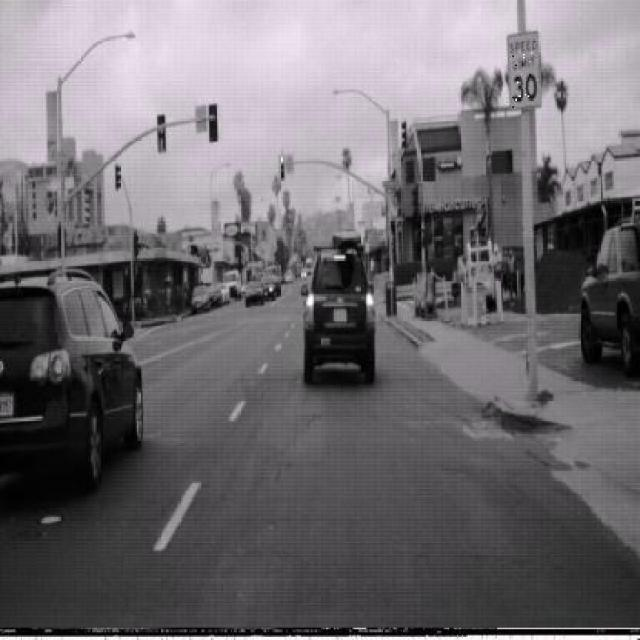speedLimit30: (506, 29, 542, 112)
